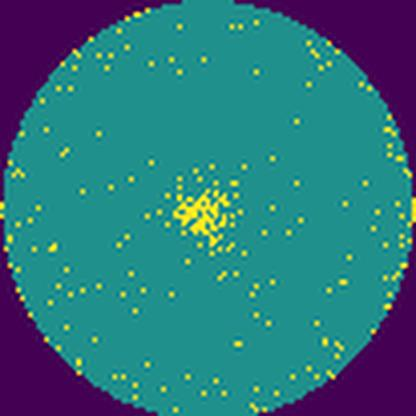Center: (176, 189, 232, 251)
